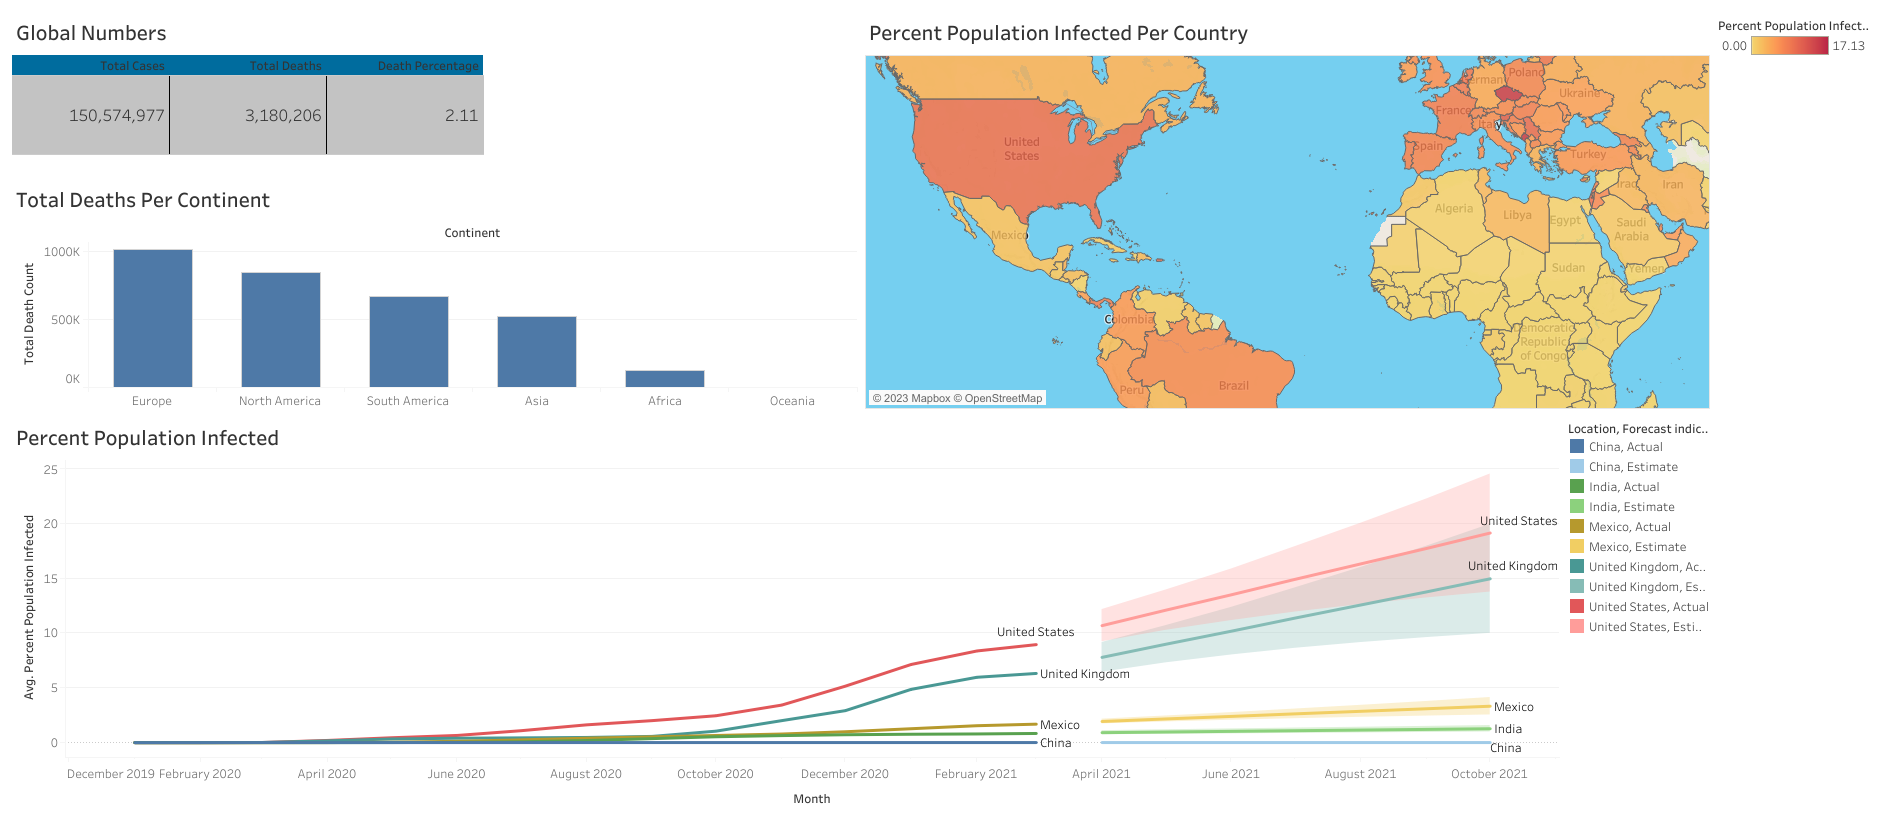

Layout of this report page (visuals, bound fields, positions):
{"tool":"tableau","page":{"name":"Dashboard 1","canvas":[1000,1000],"units":"permille","ordinal":0},"visuals":[{"type":"worksheet","title":"Sheet 1","mark":"Automatic","box":[4.7,8.8,448.5,202.4]},{"type":"worksheet","title":"Sheet 3","mark":"Automatic","box":[453.2,8.8,448.5,491.2]},{"type":"legend","title":"Sheet 3","param":"[federated.0koc14s16lwi4d10n2w0212fk8eb].[sum:PercentPopulationInfected:qk]","box":[901.7,8.8,93.6,60.8]},{"type":"worksheet","title":"Sheet 2","mark":"Automatic","rows":["TotalDeathCount"],"cols":["location"],"box":[4.7,211.3,448.5,288.7]},{"type":"worksheet","title":"Sheet 4","mark":"Automatic","rows":["PercentPopulationInfected"],"cols":["date"],"box":[4.7,500,817.4,491.2]},{"type":"legend","title":"Sheet 4","param":"[federated.1rss0gp04byt0j10gv3161343csl].[none:Location:nk]\n[federated.1rss0gp04","box":[822.1,500,79.6,491.2]}]}

Visuals, with their boxes on the dashboard's canvas, which has no fixed pixel size, in thousandths of its width and height (x1, y1, x2, y2). These are canvas units, not pixel positions in the 1881x825 screenshot, which may show the page scaled, cropped or inside an application window:
"Sheet 1" worksheet: 5:9:453:211
"Sheet 3" worksheet: 453:9:902:500
"Sheet 3" legend: 902:9:995:70
"Sheet 2" worksheet: 5:211:453:500
"Sheet 4" worksheet: 5:500:822:991
"Sheet 4" legend: 822:500:902:991
